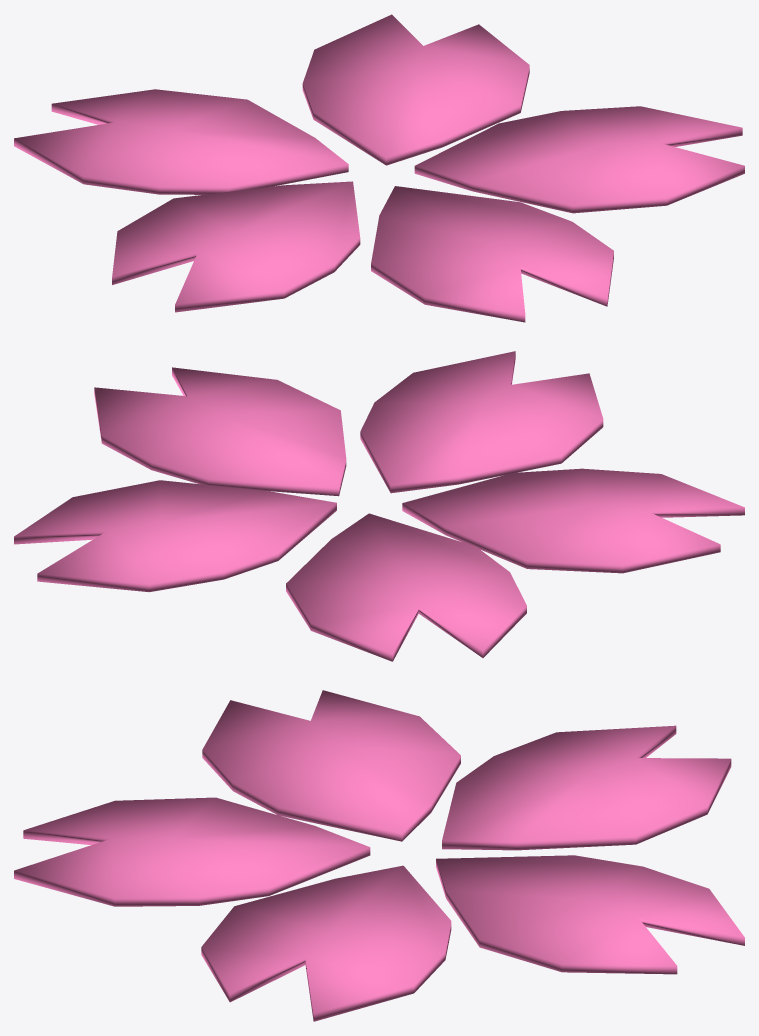
File: cherry-flower.glb
3 renders of one model, top to bottom at view 1: azimuth 30°, elevation 25°; view 2: azimuth 150°, elevation 25°; view 3: azimuth 270°, elevation 25°, orthographic. The views are drawn at different scales.
Parts seen in each view (by area): view 1: cherry.flower; view 2: cherry.flower; view 3: cherry.flower.
Boxes of the visible parts, <box> form: cherry.flower: <box>14,14,744,322</box>; cherry.flower: <box>14,351,744,661</box>; cherry.flower: <box>14,690,744,1021</box>.
Bounding box in the file's own units: 0.1611 × 0.00441 × 0.1538.
